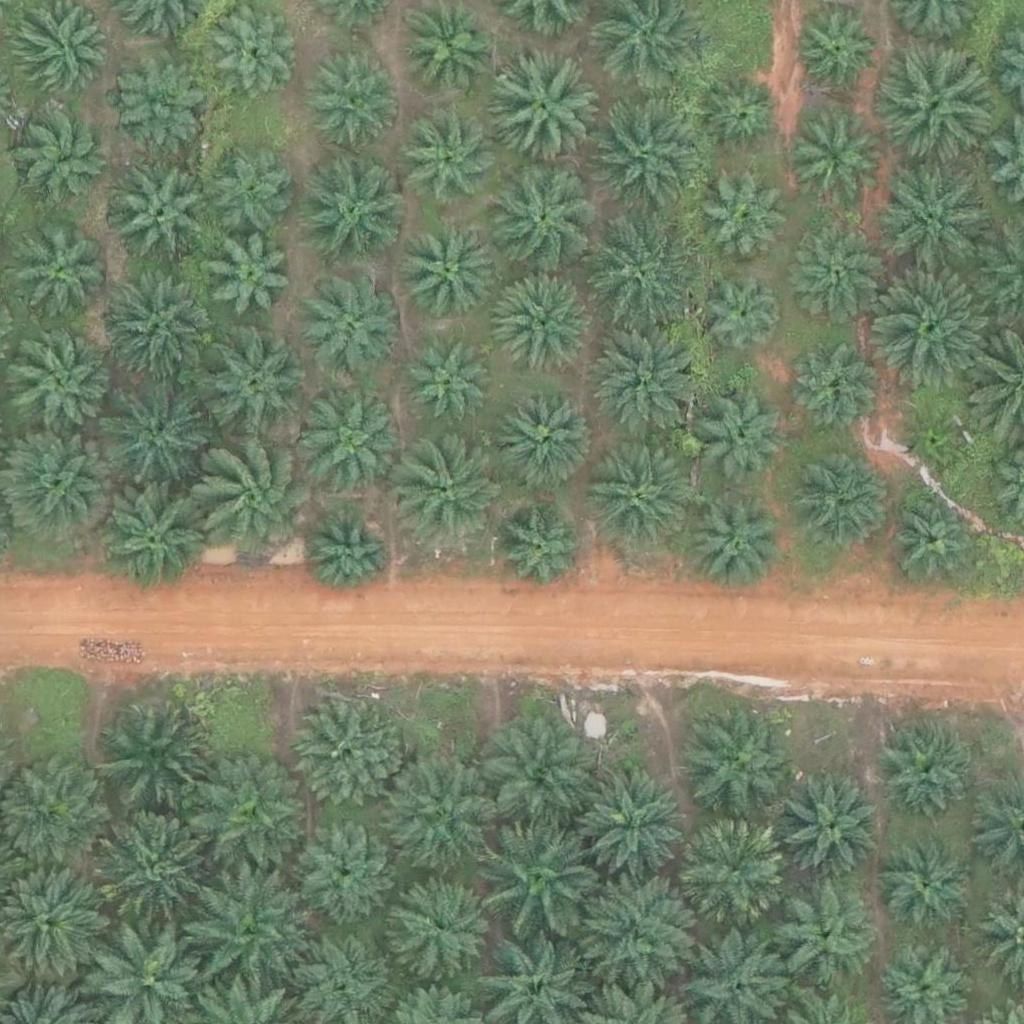Kelapa_Sawit: (195, 439, 320, 565), (681, 704, 794, 818), (579, 768, 692, 882), (593, 99, 706, 213), (677, 818, 790, 931), (575, 882, 688, 995), (485, 819, 598, 932), (292, 700, 405, 813), (190, 761, 303, 874), (879, 41, 992, 154), (483, 55, 596, 168), (99, 276, 212, 389), (99, 377, 212, 490), (95, 484, 208, 597), (766, 884, 878, 998), (389, 757, 501, 871), (581, 440, 693, 554), (483, 720, 595, 833), (193, 876, 305, 989), (102, 697, 214, 810), (95, 808, 207, 921), (878, 162, 990, 275), (875, 273, 987, 386), (584, 218, 696, 331), (592, 330, 704, 443), (486, 162, 598, 275), (396, 436, 508, 549), (195, 328, 307, 441), (4, 432, 116, 545), (876, 722, 976, 823), (779, 780, 879, 881), (391, 873, 491, 974), (293, 814, 393, 915), (792, 453, 892, 554), (686, 497, 786, 598), (497, 388, 597, 489), (402, 113, 502, 214), (398, 224, 498, 325), (303, 45, 403, 146), (302, 164, 402, 265), (299, 273, 399, 374), (115, 169, 215, 270), (8, 2, 108, 103), (13, 102, 113, 203), (9, 334, 109, 435), (877, 836, 977, 936), (496, 271, 596, 371), (304, 396, 404, 496), (107, 52, 207, 152), (793, 228, 881, 316), (702, 179, 790, 267), (698, 273, 786, 361), (498, 511, 586, 599), (890, 494, 977, 583), (794, 9, 881, 98), (410, 339, 497, 428), (798, 124, 885, 212), (791, 344, 878, 432), (697, 76, 784, 164), (698, 390, 785, 478), (305, 511, 392, 599), (209, 6, 296, 94), (209, 147, 296, 235), (206, 235, 293, 323), (17, 230, 104, 318), (906, 412, 969, 475)
